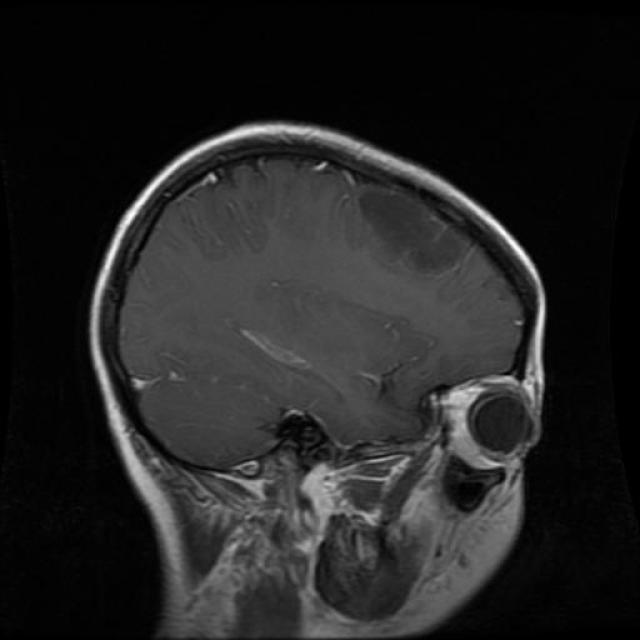glioma: (226, 166, 386, 320)
